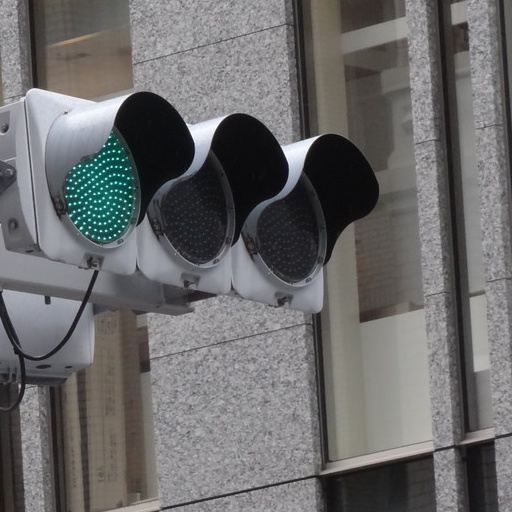Traffic_Signal_Blue: (46, 108, 358, 286)
